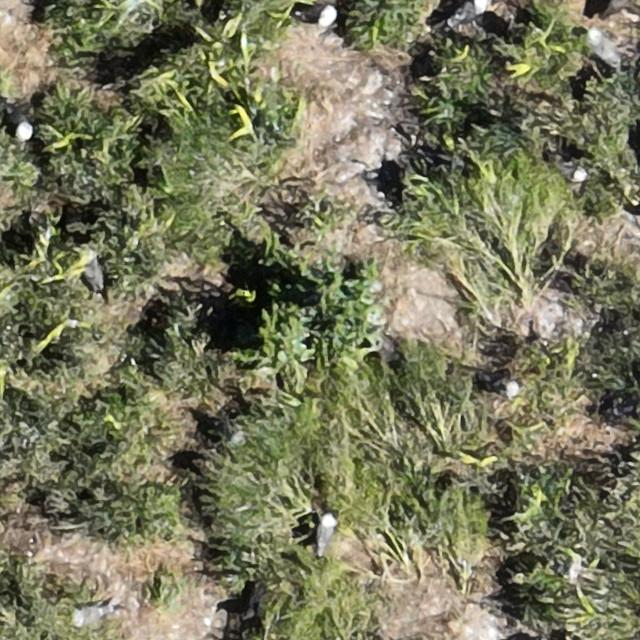umineko: (588, 26, 618, 68), (299, 3, 339, 24), (9, 110, 34, 140), (453, 1, 487, 22), (76, 604, 110, 624), (316, 514, 334, 550), (488, 377, 520, 397), (558, 162, 589, 182), (83, 260, 102, 291)
